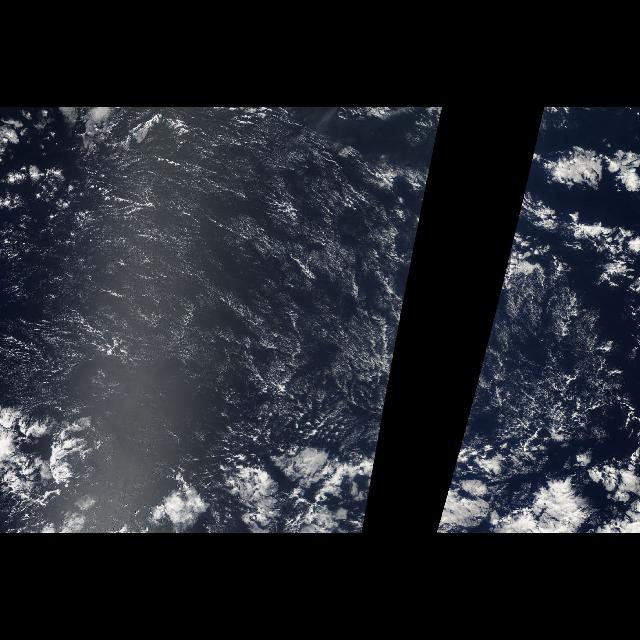Flower: (1, 389, 388, 533), (435, 389, 639, 533)
Sugar: (25, 123, 441, 453), (458, 126, 618, 454)
